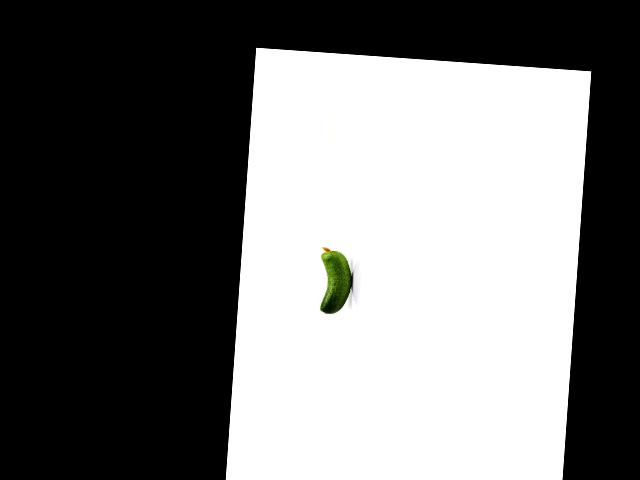cucumber: (317, 246, 354, 316)
